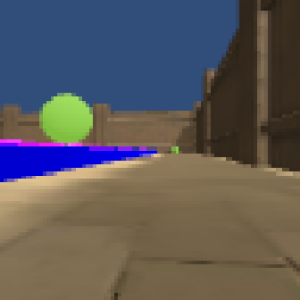goodGoal: (38, 91, 94, 145), (168, 142, 180, 155)
platform: (1, 149, 157, 182)
ramp: (1, 137, 85, 147)
